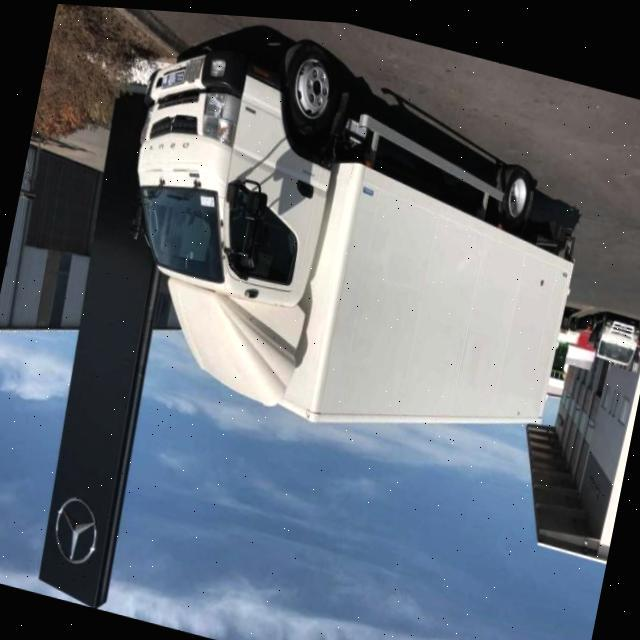truck: (93, 4, 601, 474)
